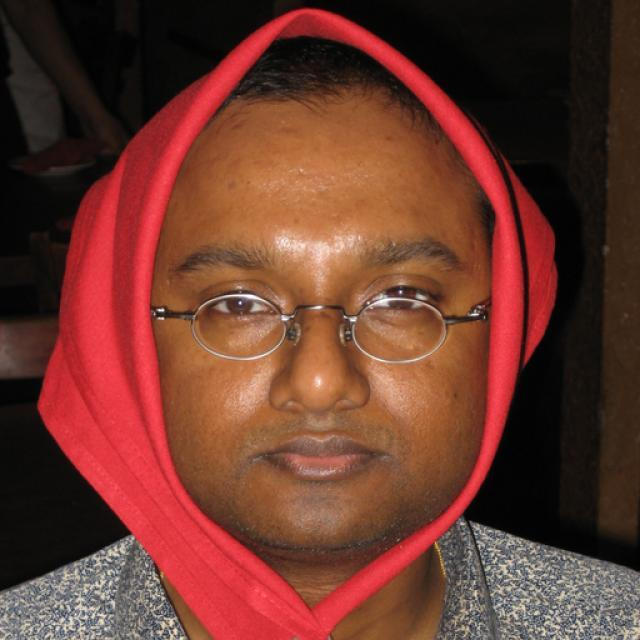neutral: (154, 87, 491, 564)
